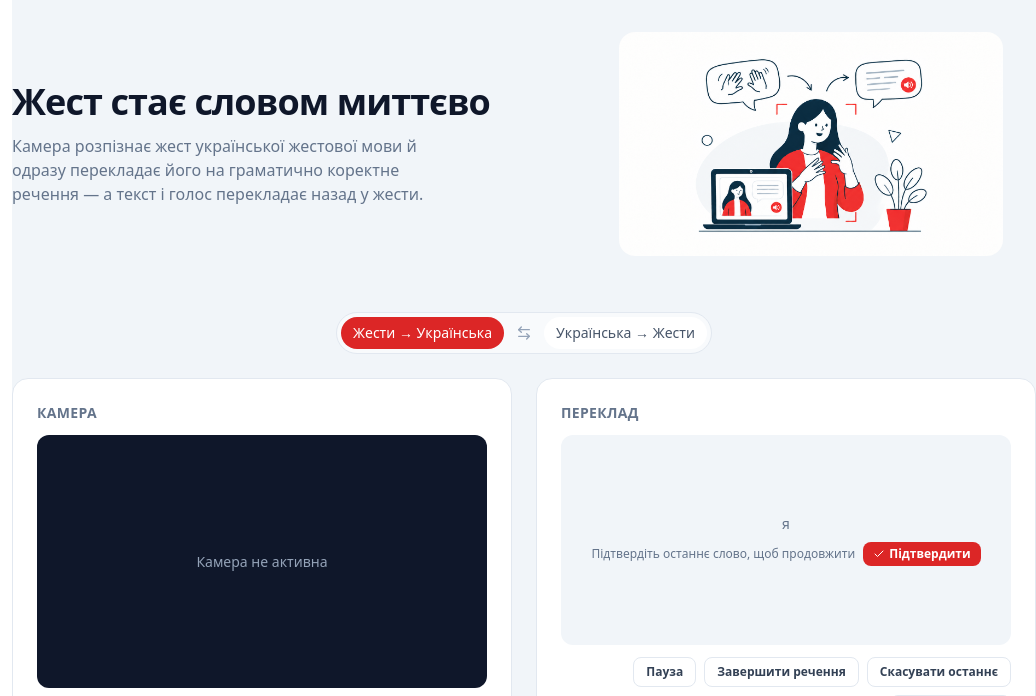
Test: TranslatorView › each confirmed word pauses recognition and waits for an explicit Підтвердити before the next one
The width and height of the screenshot is (1036, 696).
Check: the element with test id "live-sentence-status" shows "я", box [782,514,790,533]
Check: the element with test id "confirm-pending-banner" is shown, box [591,542,980,566]
Click the button "Підтвердити" at (922, 554), box [863,542,980,566]
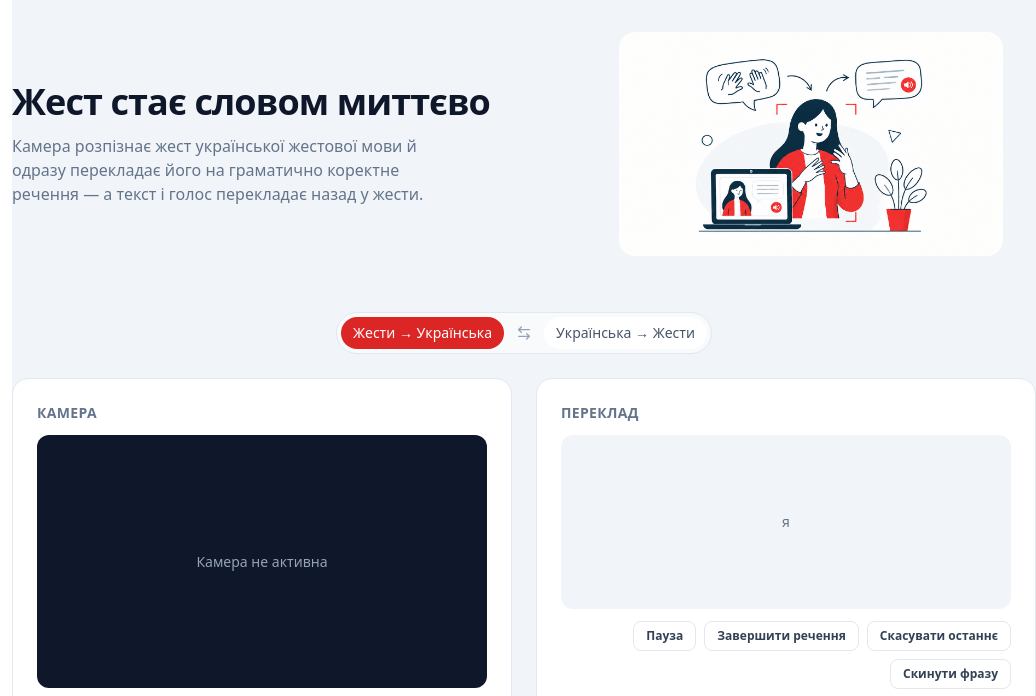
Check: the element with test id "confirm-pending-banner" is gone
